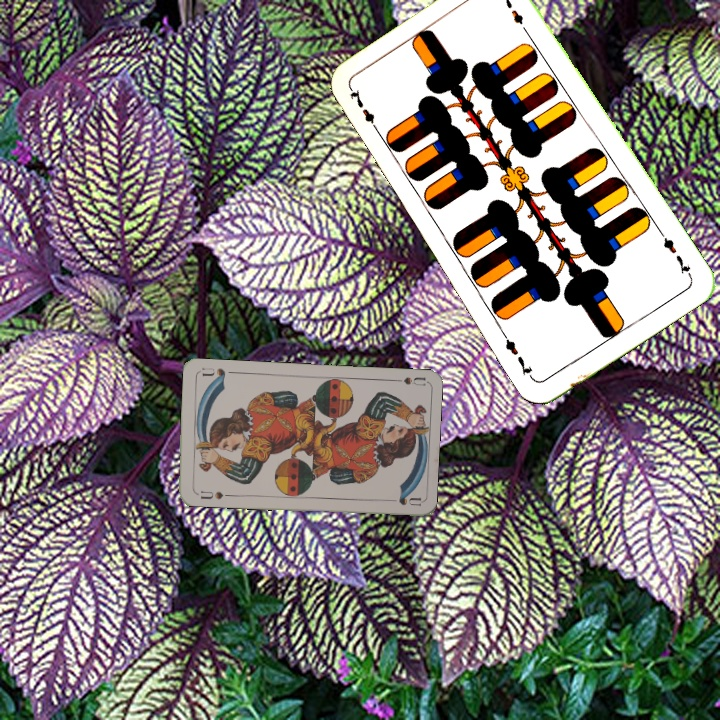E7: (345, 85, 384, 138), (656, 228, 695, 280)
SU: (386, 373, 427, 388), (197, 487, 226, 502)
